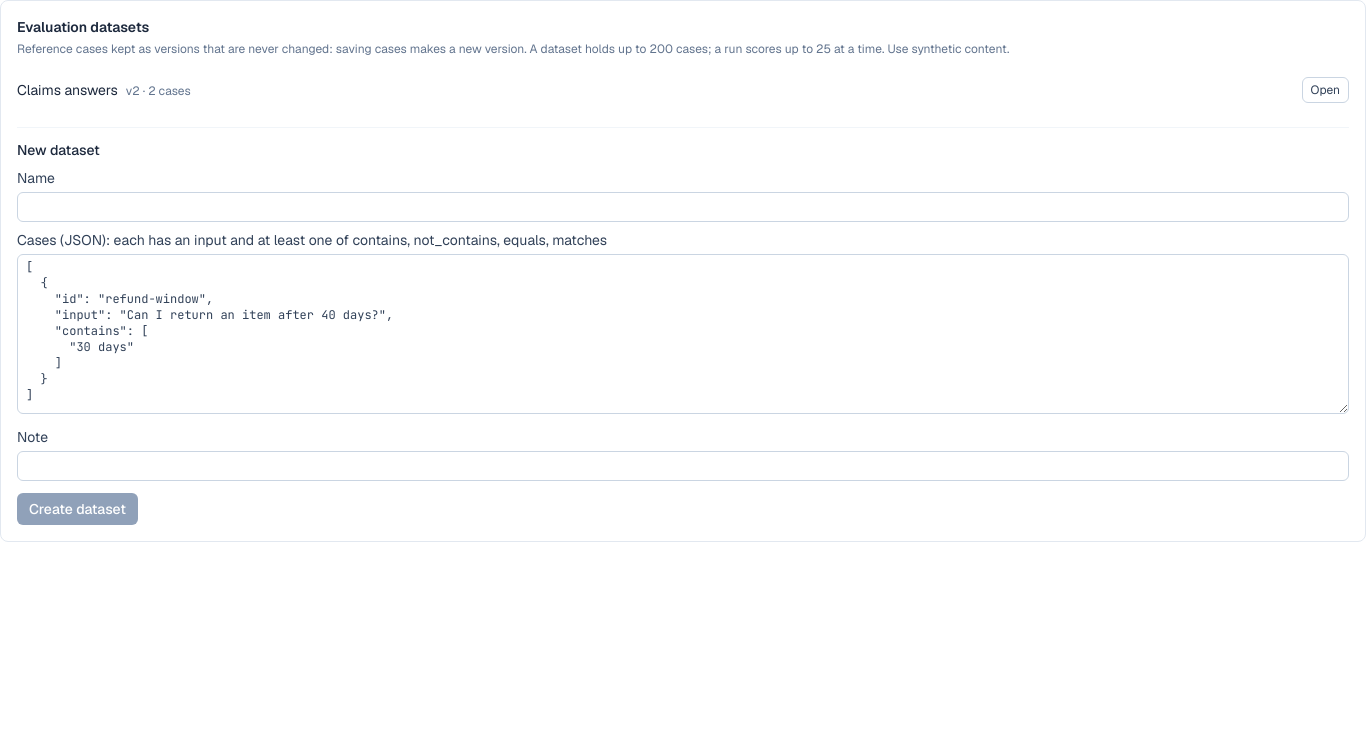
EvalDatasets › archives the open dataset and reports a failure to save
Click the button with test id "eval-dataset-open-d1".
click(1325, 90)  # box 1302,77 -> 1349,103
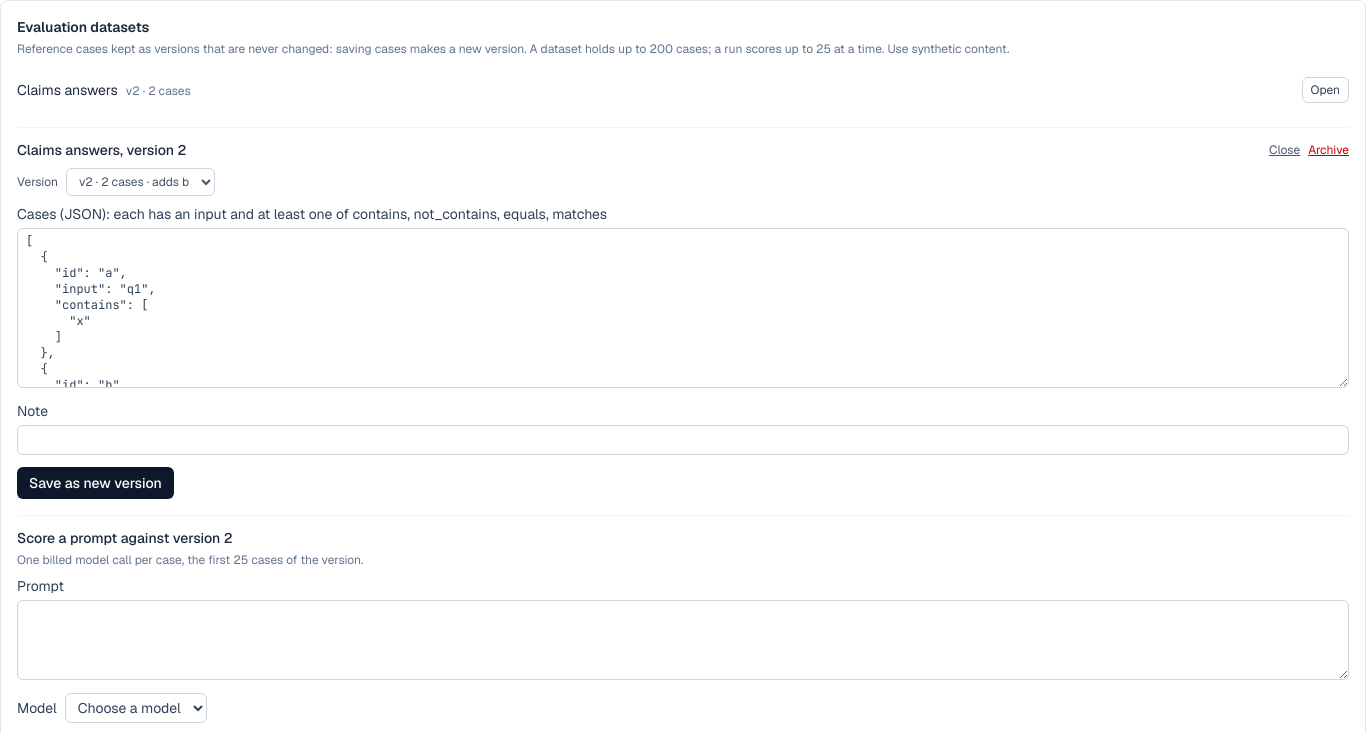
Now the heading with test id "eval-dataset-heading" reads "Claims answers, version 2", box 17,141 -> 186,159
Click the button with test id "eval-dataset-save".
click(95, 483)  # box 17,467 -> 174,499
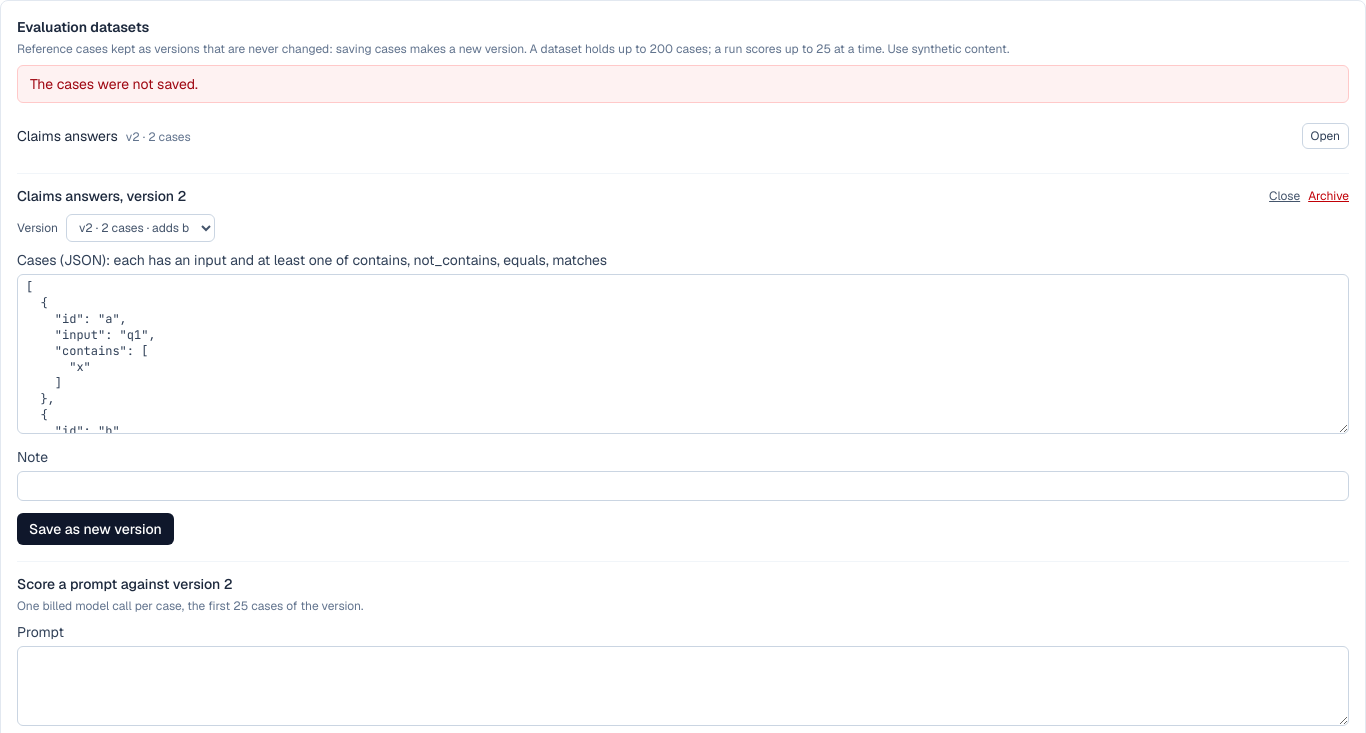
Now the message reads "The cases were not saved.", box 30,75 -> 198,93
Click the button with test id "eval-dataset-archive".
click(1329, 196)  # box 1308,188 -> 1349,204
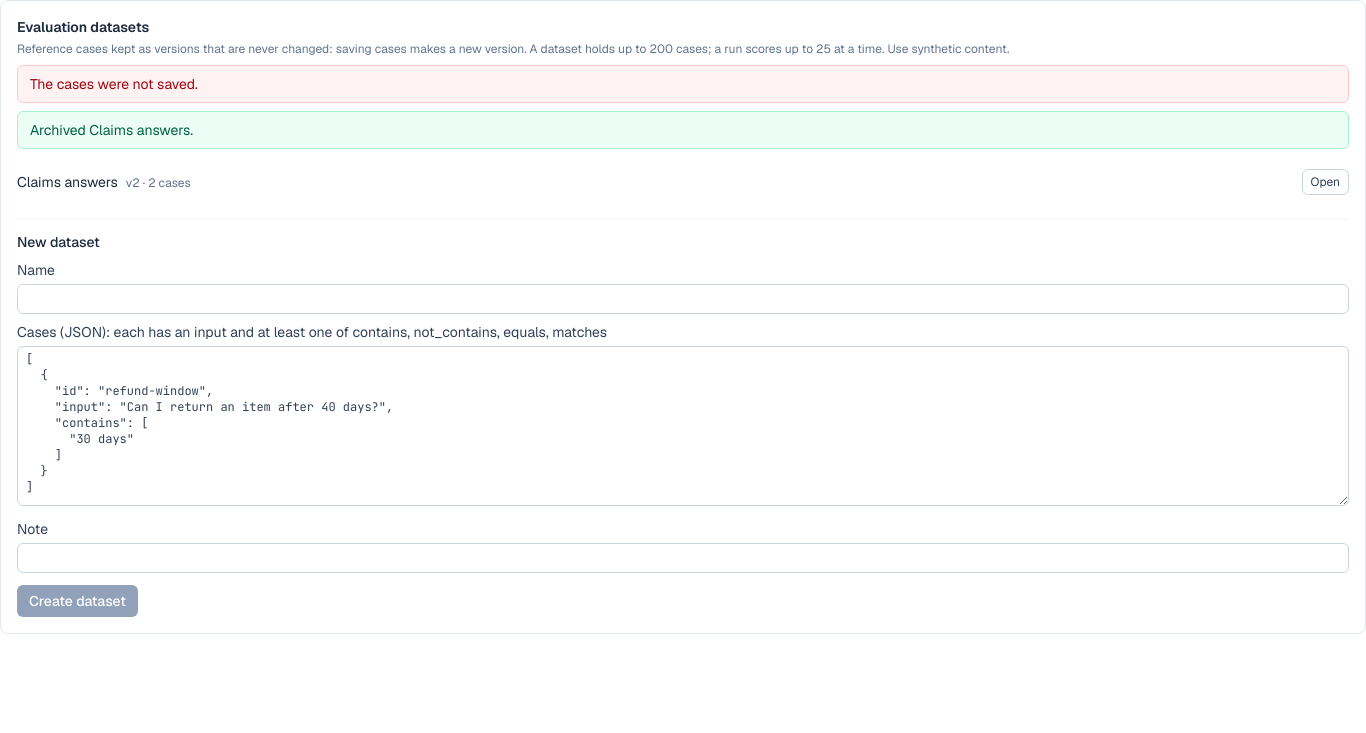
Now the message "Archived Claims answers." is shown, box 17,111 -> 1349,149
Now the heading with test id "eval-dataset-heading" reads "New dataset", box 17,233 -> 100,251
